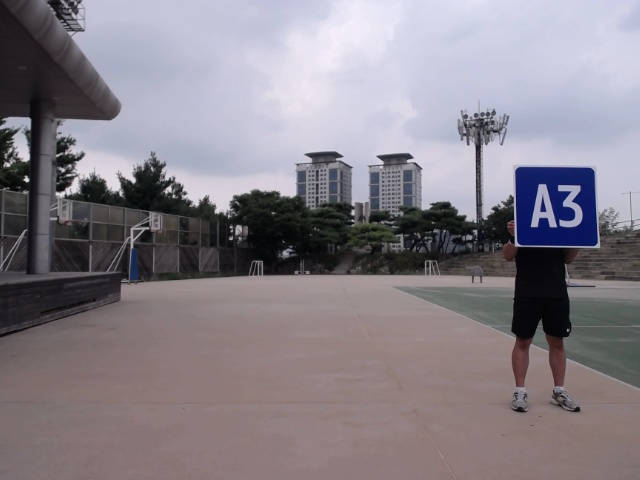delivery_a3: (514, 166, 599, 247)
